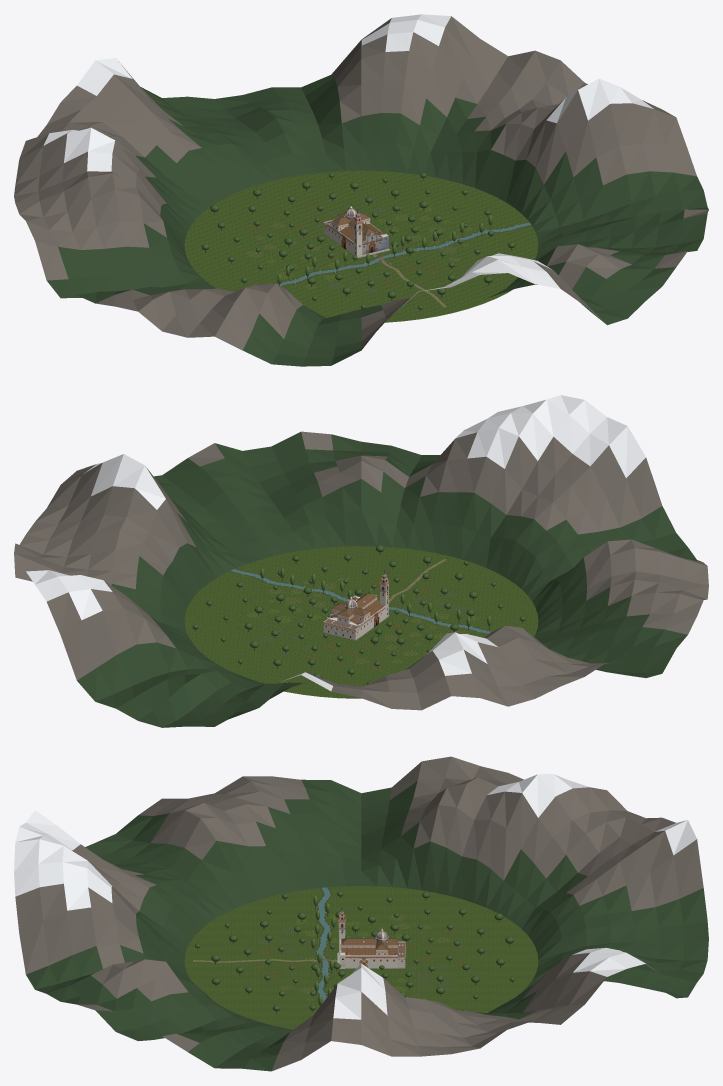
File: iglesia_granada_pradera.glb
3 views of the same model, one above another, from view 1: azimuth 30°, elevation 25°; view 2: azimuth 150°, elevation 25°; view 3: azimuth 270°, elevation 25° (orthographic).
Parts seen in each view (by area): view 1: IG_Montes_Bosque, IG_Montes_Roca, IG_Prado, IG_Montes_Nieve, IG_Lecho, IG_Orilla, IG_Agua; view 2: IG_Montes_Bosque, IG_Montes_Roca, IG_Prado, IG_Montes_Nieve, IG_Lecho, IG_Orilla, IG_Agua; view 3: IG_Montes_Bosque, IG_Montes_Roca, IG_Prado, IG_Montes_Nieve, IG_Muro_Sur, IG_Lecho, IG_Agua.
Boxes of the visible parts, box(x1,y1,x2,y2) form: IG_Montes_Bosque: box(47, 75, 708, 366); IG_Montes_Roca: box(14, 16, 708, 350); IG_Prado: box(184, 170, 538, 322); IG_Montes_Nieve: box(43, 14, 653, 313); IG_Lecho: box(278, 222, 531, 285); IG_Orilla: box(234, 222, 531, 291); IG_Agua: box(278, 223, 530, 285); IG_Montes_Bosque: box(77, 432, 702, 727); IG_Montes_Roca: box(14, 431, 708, 710); IG_Prado: box(184, 546, 538, 698); IG_Montes_Nieve: box(26, 395, 645, 690); IG_Lecho: box(230, 569, 491, 633); IG_Orilla: box(229, 568, 492, 634); IG_Agua: box(231, 569, 490, 633); IG_Montes_Bosque: box(26, 779, 708, 1071); IG_Montes_Roca: box(15, 756, 703, 1070); IG_Prado: box(184, 886, 538, 1029); IG_Montes_Nieve: box(14, 774, 696, 1019); IG_Muro_Sur: box(345, 955, 397, 968); IG_Lecho: box(317, 887, 330, 1002); IG_Agua: box(317, 887, 329, 1002).
Size of the model in its own units: 3 by 0.5234 by 3.
Materials: 49 (25 with a texture image).
